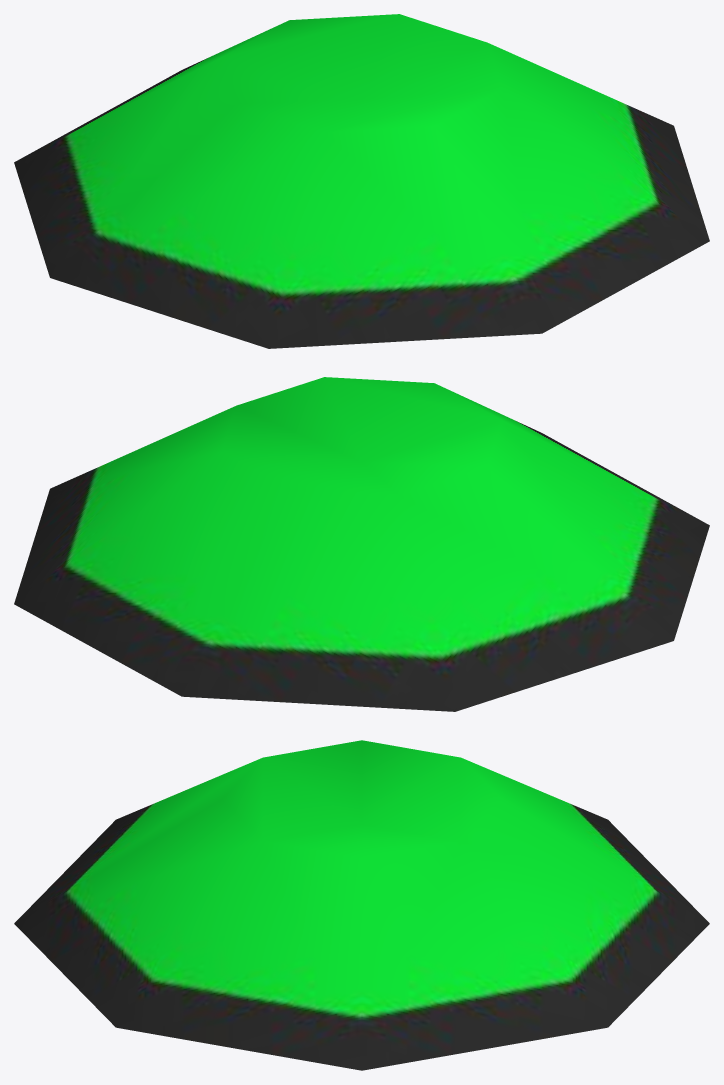
File: defaultconegreen.glb
3 renders of one model, top to bottom at view 1: azimuth 30°, elevation 25°; view 2: azimuth 150°, elevation 25°; view 3: azimuth 270°, elevation 25°, orthographic. The views are drawn at different scales.
Parts seen in each view (by area): view 1: DefaultConeGreen; view 2: DefaultConeGreen; view 3: DefaultConeGreen.
Part boxes in pixels (x1,y1,x2,y2): DefaultConeGreen: [14, 14, 709, 348]; DefaultConeGreen: [14, 377, 709, 711]; DefaultConeGreen: [14, 740, 709, 1070].
Bounding box in the file's own units: 0.312 × 0.0614 × 0.312.
Materials: 1 (1 with a texture image).
